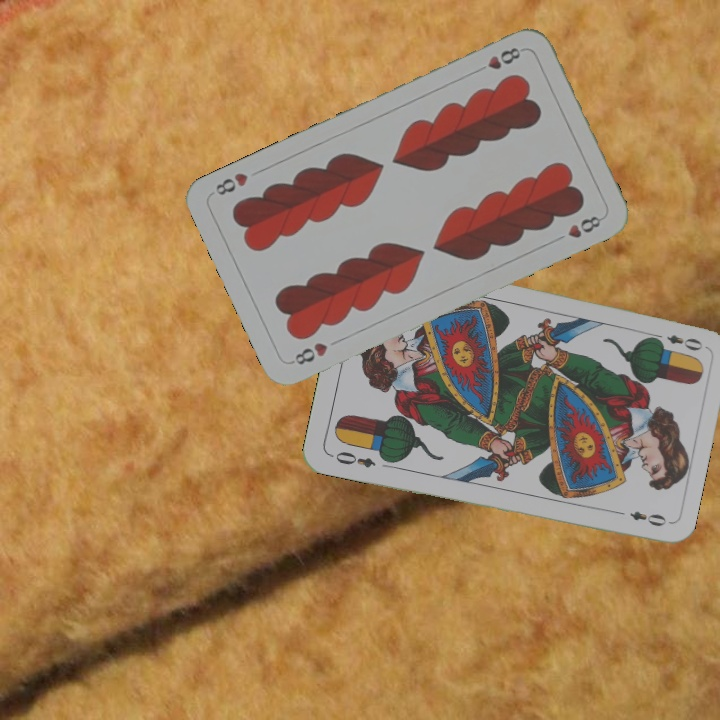EO: (648, 329, 706, 354), (326, 447, 378, 471)
H8: (471, 43, 523, 76), (287, 338, 331, 368)
